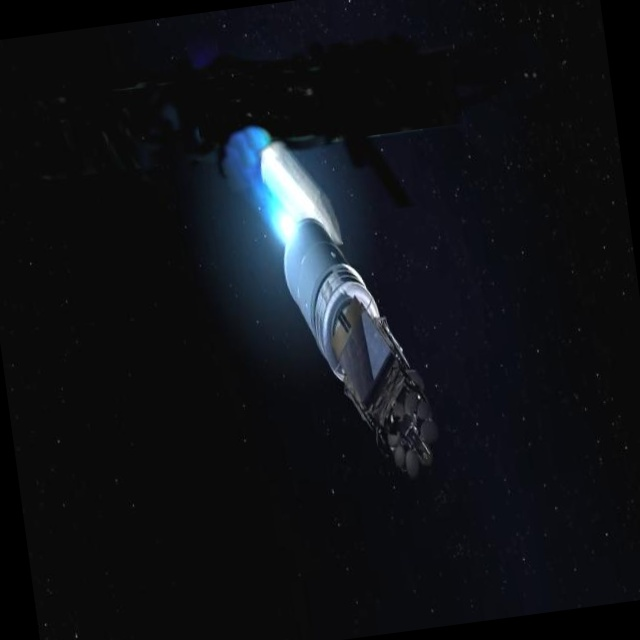medium_debris: (228, 104, 446, 522)
